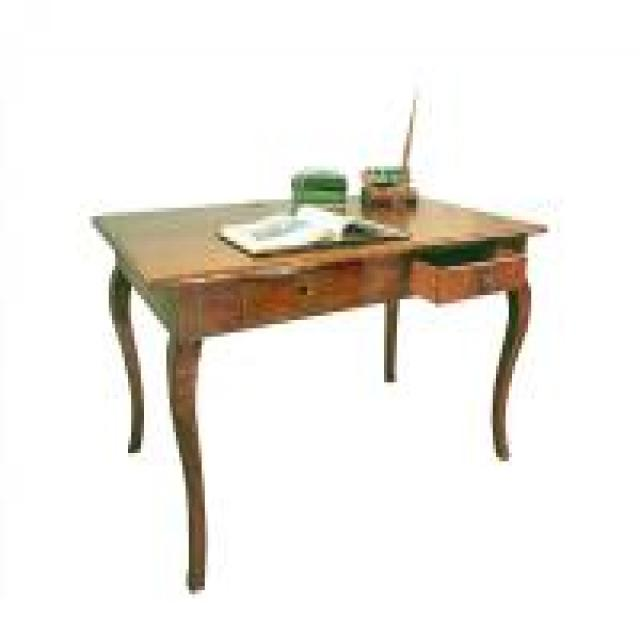table: (86, 183, 548, 590)
